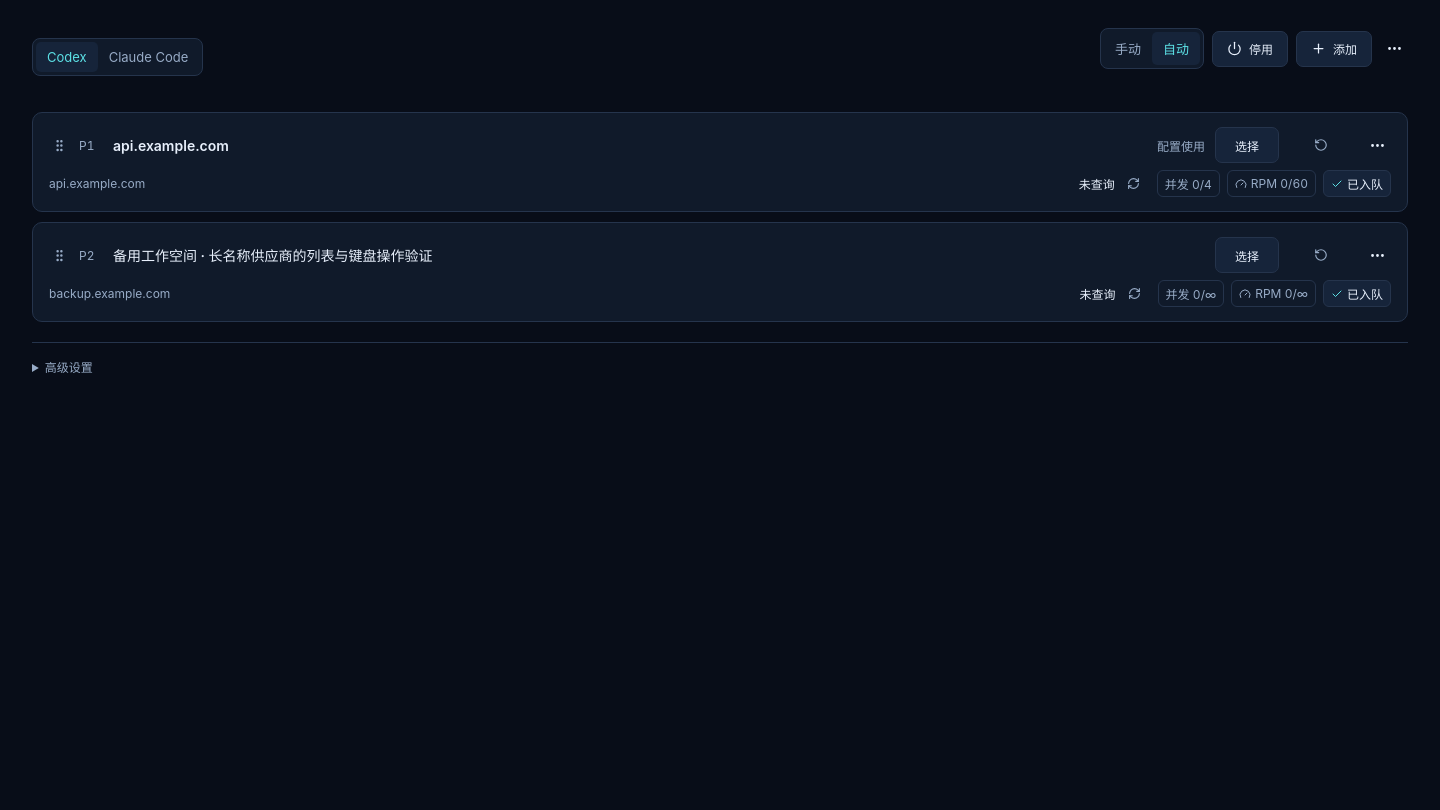
Test: gateway controls › codex preserves a conflicting provider draft and retries only with a fresh version
The image size is (1440, 810).
Click the button "添加" at (1334, 48), box [1296, 30, 1372, 66]
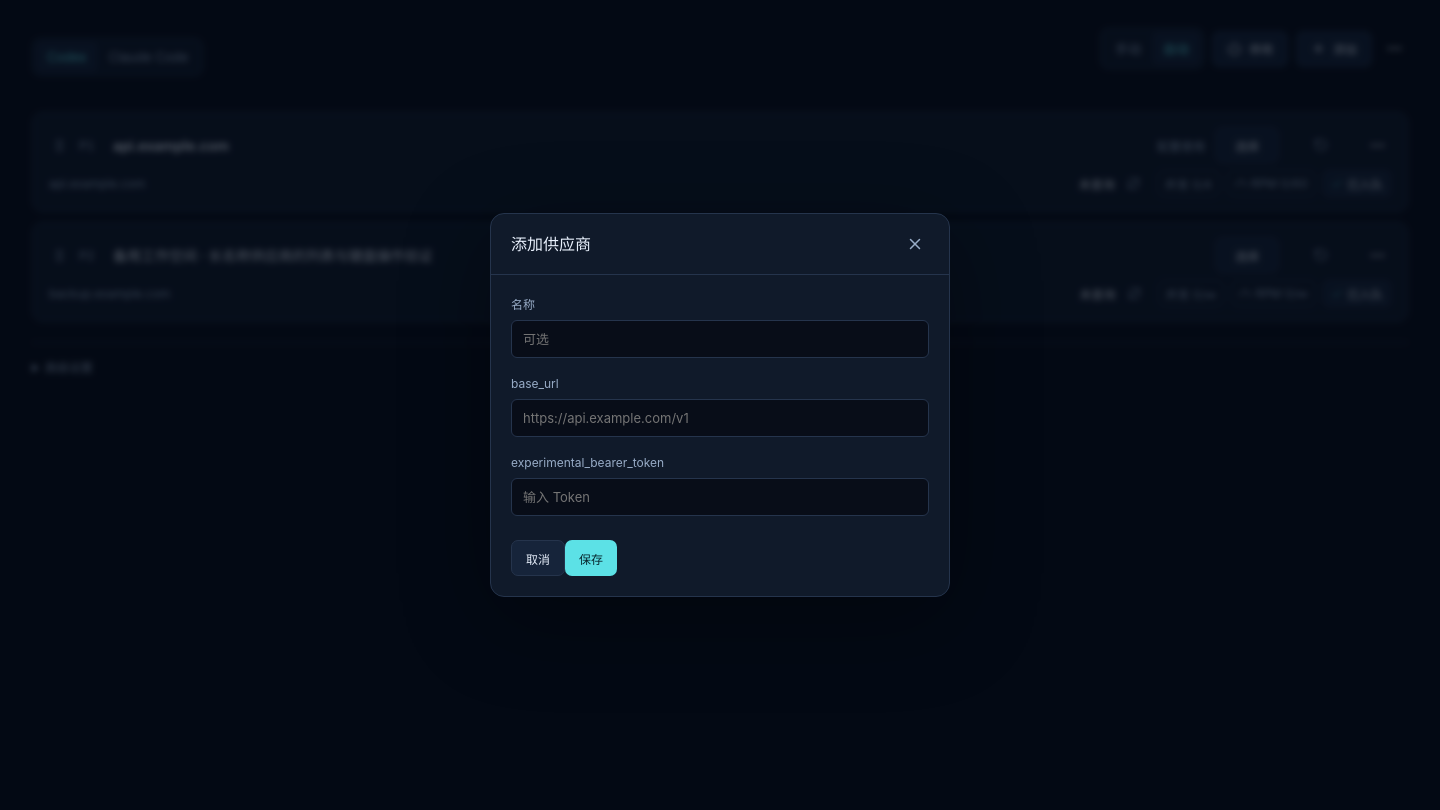
Type "https://new.invalid/v1" into the field labelled "base_url" at (720, 418), box [511, 399, 929, 437]
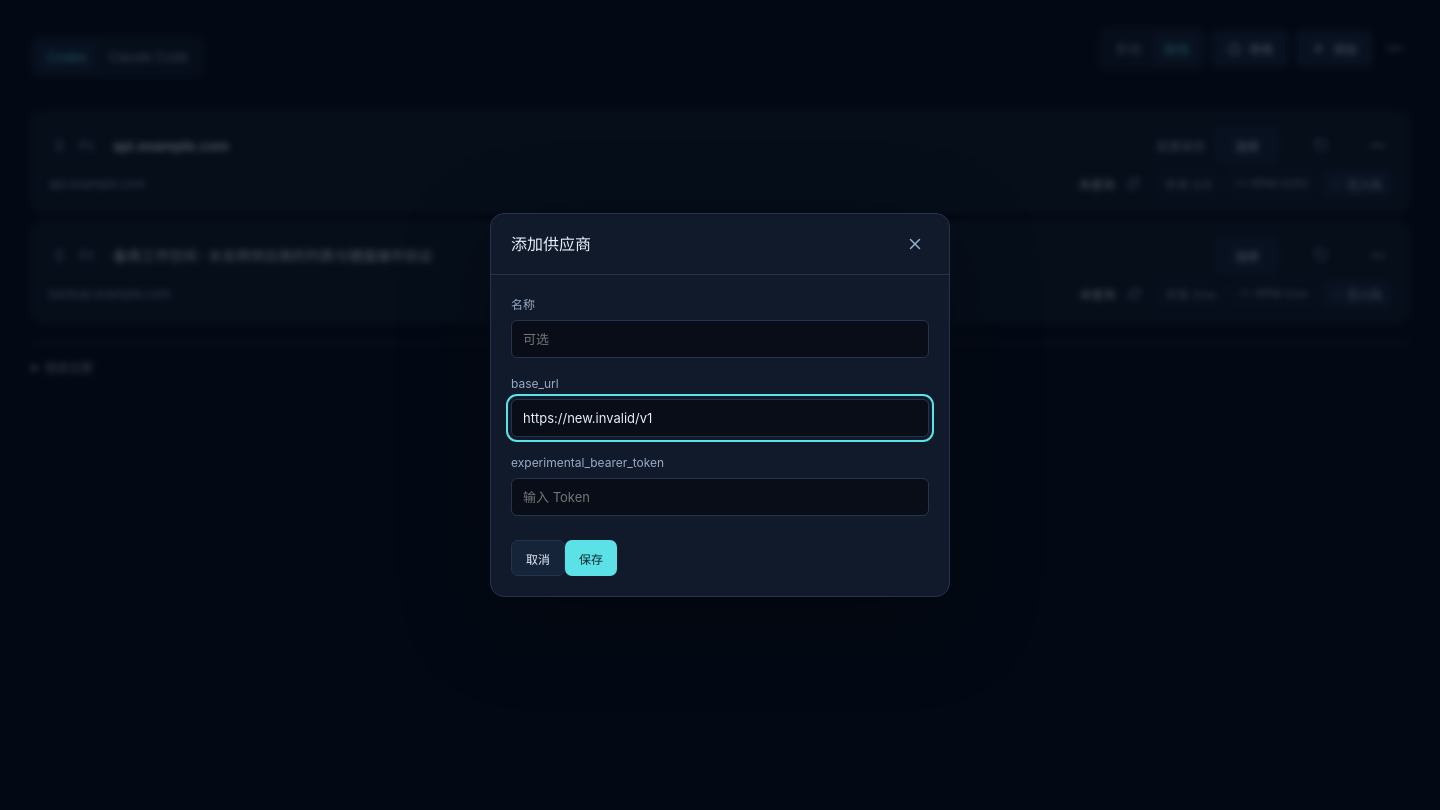
Type "fixture-key" into the password field labelled "experimental_bearer_token" at (720, 497), box [511, 478, 929, 516]
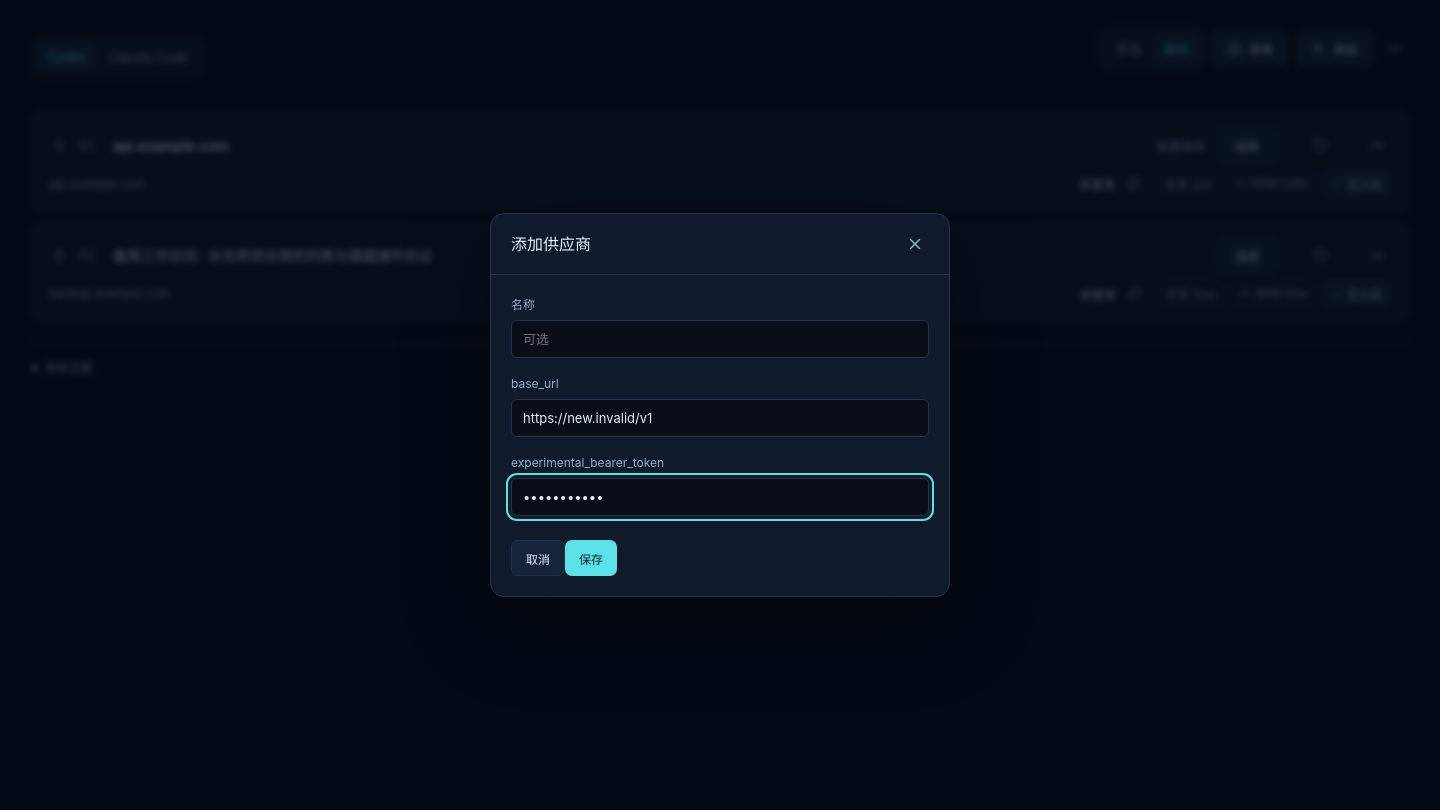
Click the button "保存" at (591, 558), box [565, 540, 617, 576]
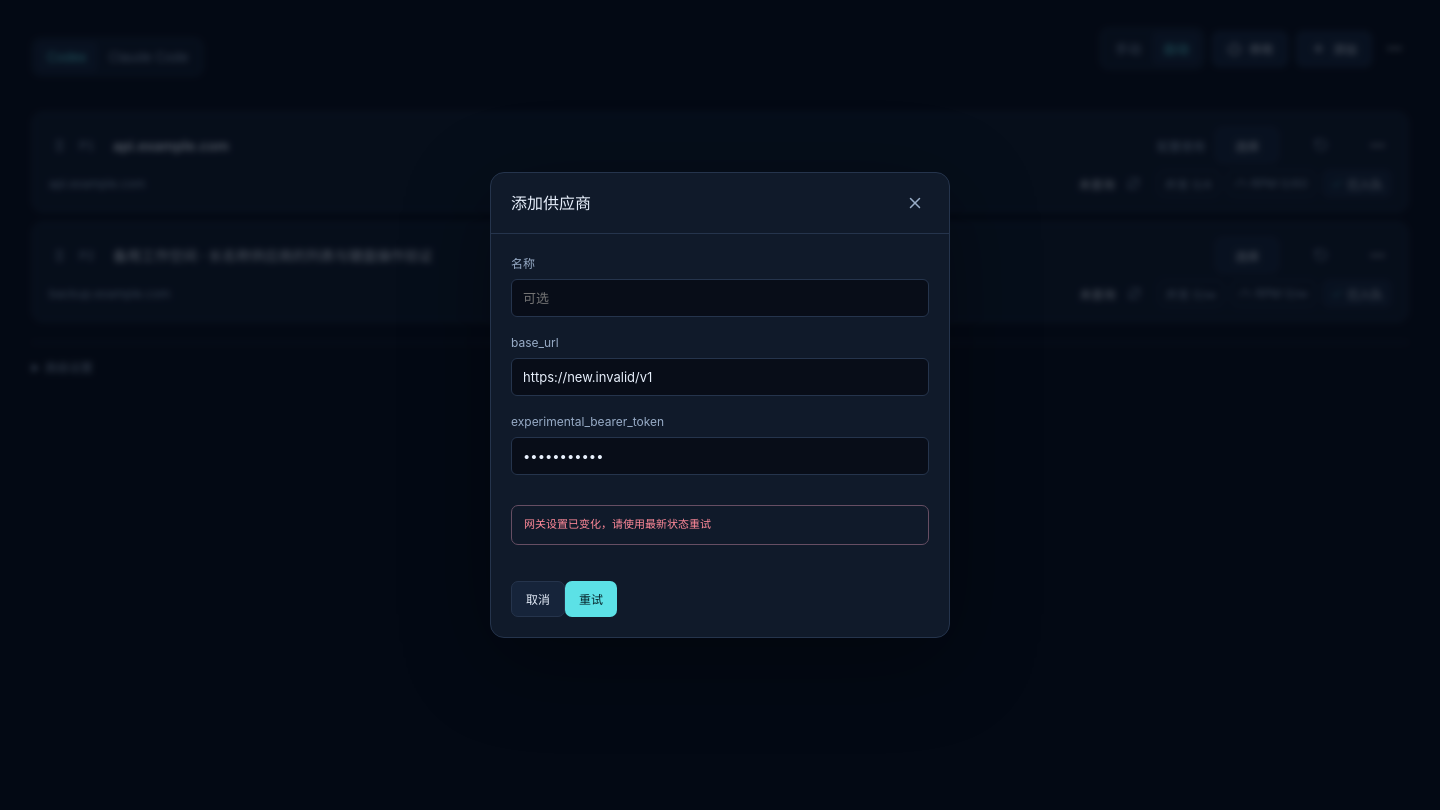
expect the message shows "网关设置已变化": met, box [524, 517, 711, 531]
Click the button "重试" at (591, 599), box [565, 581, 617, 617]
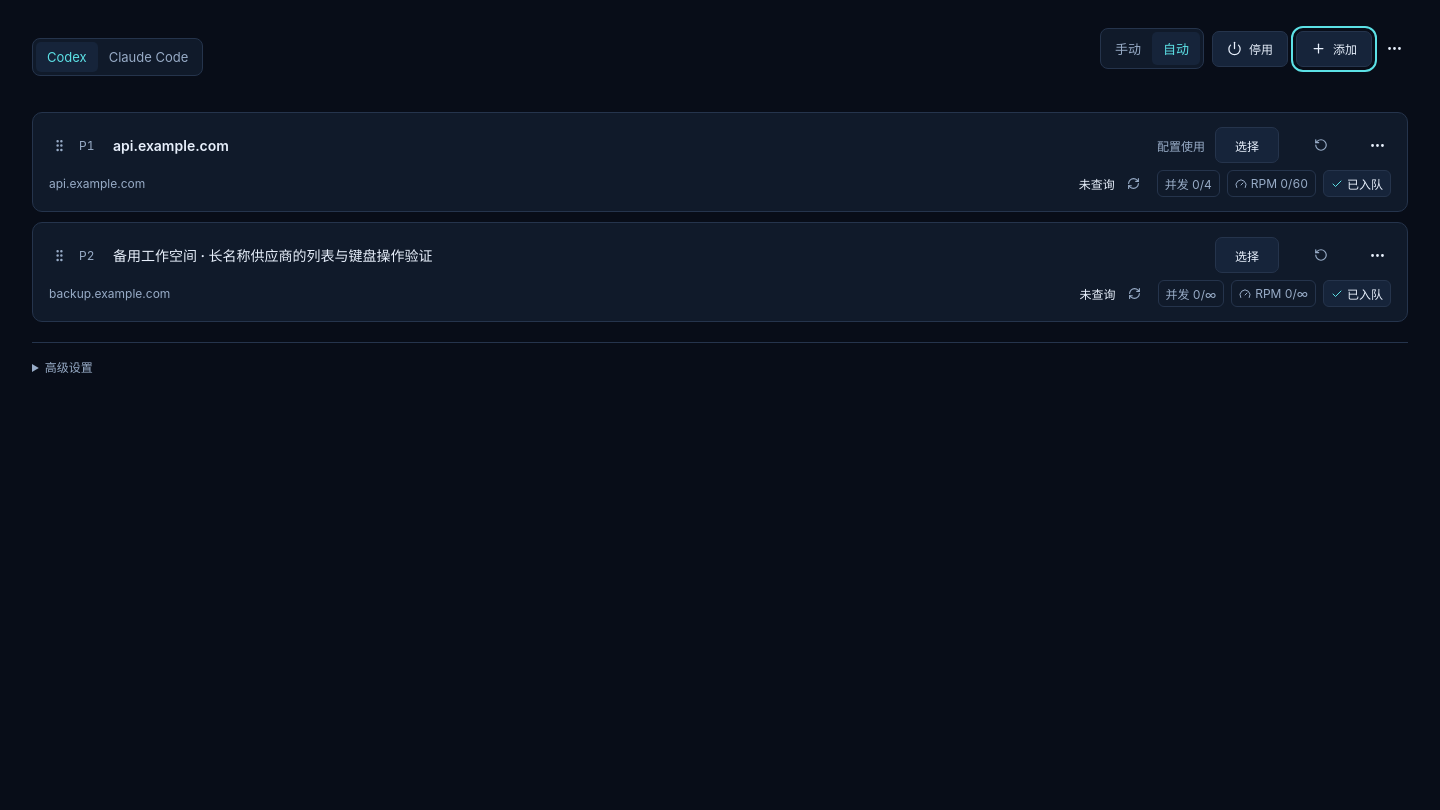
expect the heading "添加供应商" is gone: met
